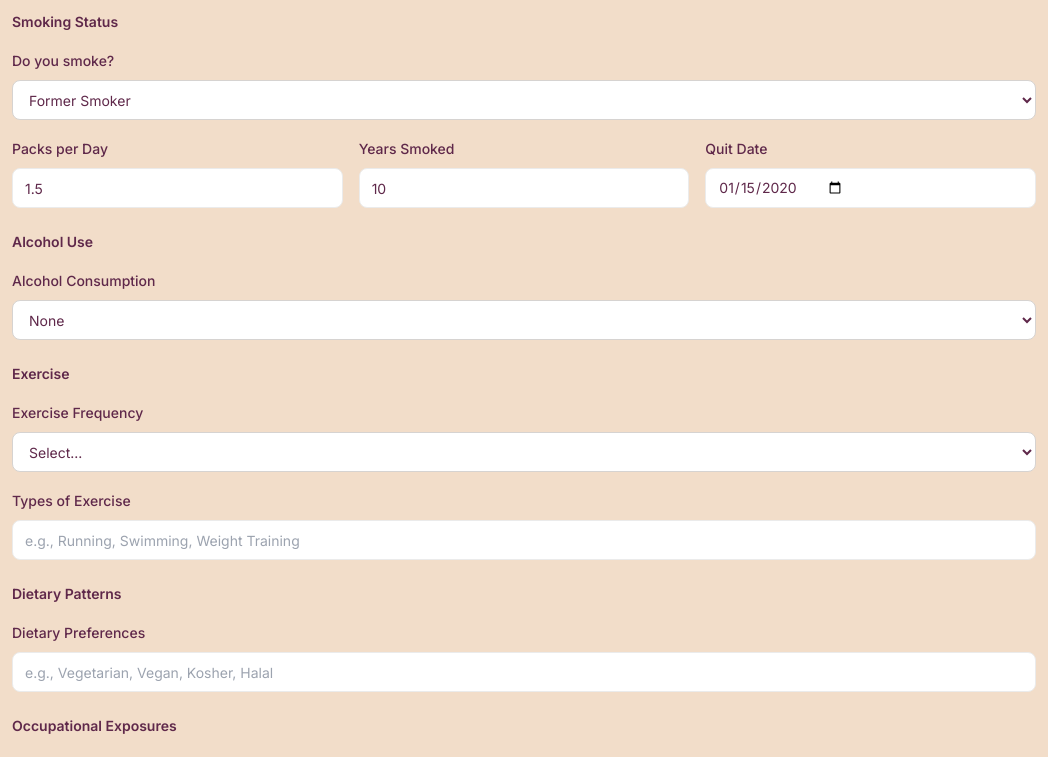
LifestyleForm › Smoking Status › should hide smoking history fields when status is "never"
Expected: the number field labelled "Packs per Day" is shown, [12,168,343,208]
Select "Never" in the dropdown labelled "Do you smoke?" at (524, 100), box [12,80,1036,120]
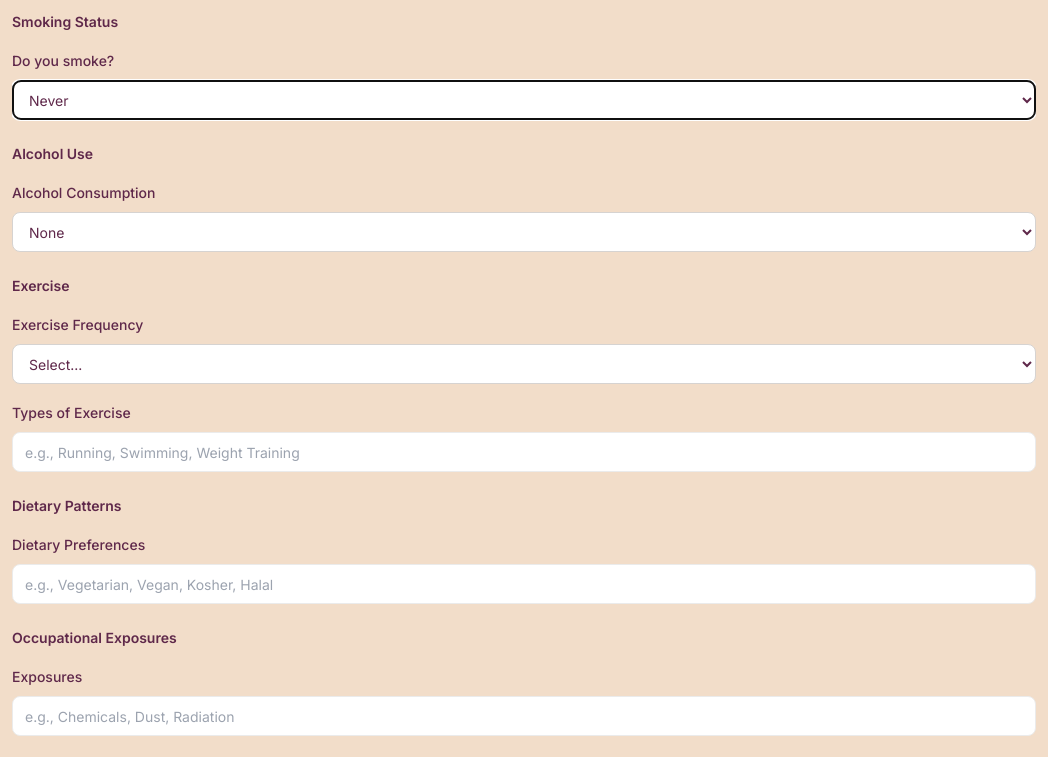
Expected: the label labelled "Packs per Day" is gone
